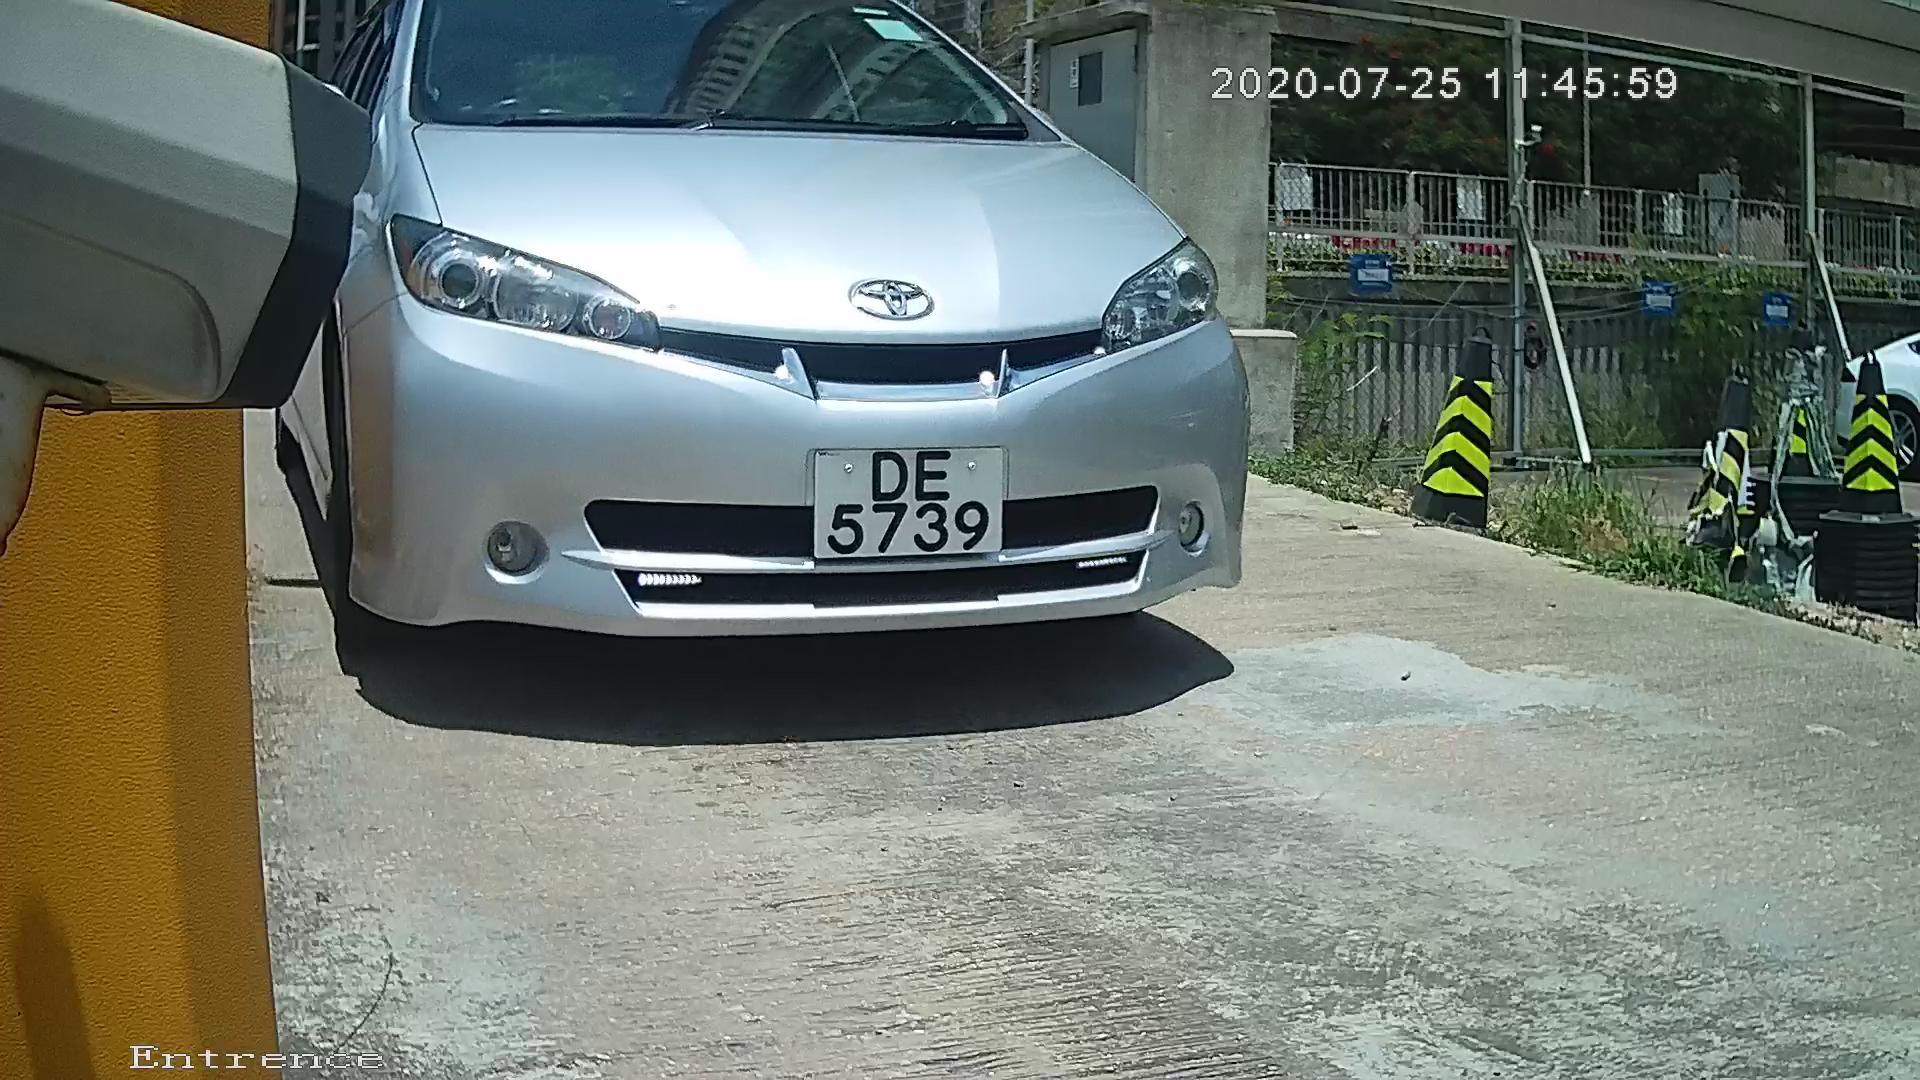Car: (86, 1, 1372, 757)
License Plate: (781, 430, 1021, 574)
